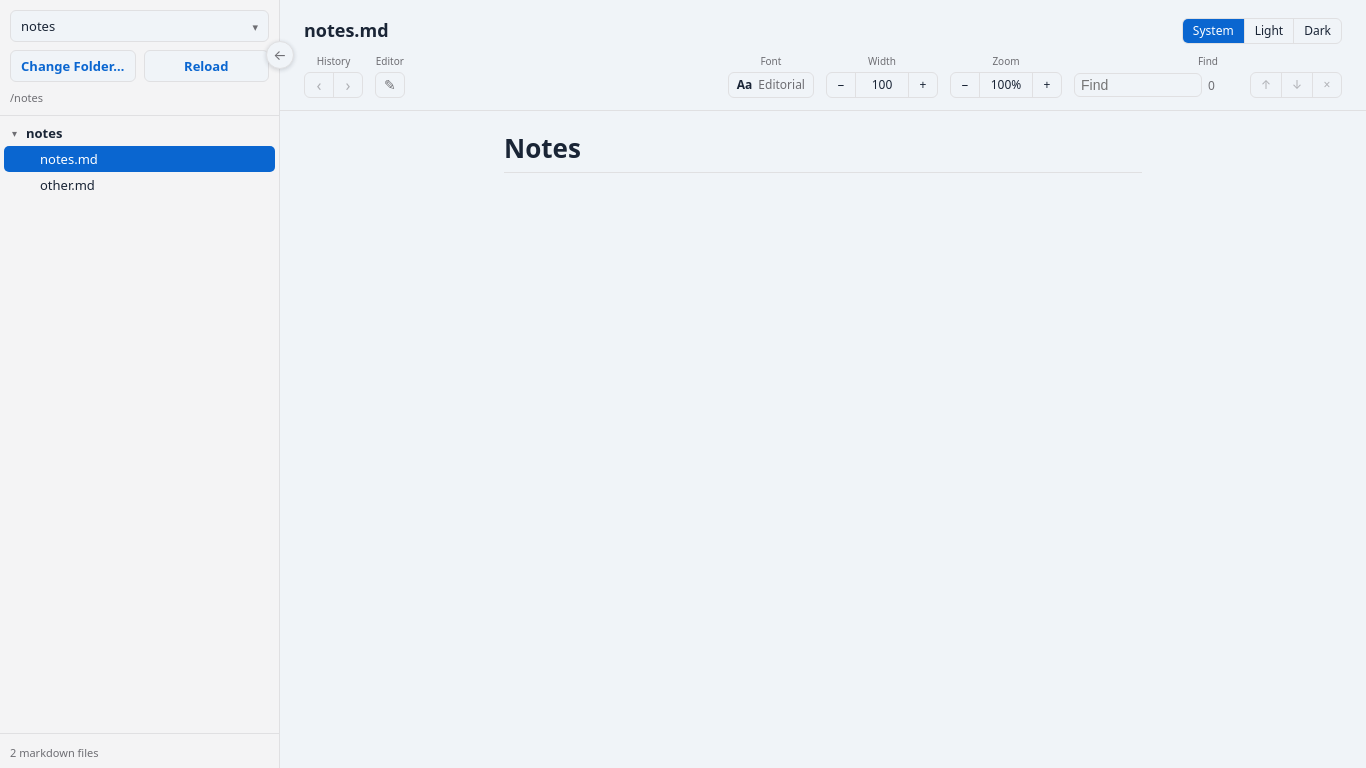
Test: keeps a draft and says so when disk changes under it
Click the button named "Show editor" at (390, 85), box x1=375 y1=72 x2=405 y2=98
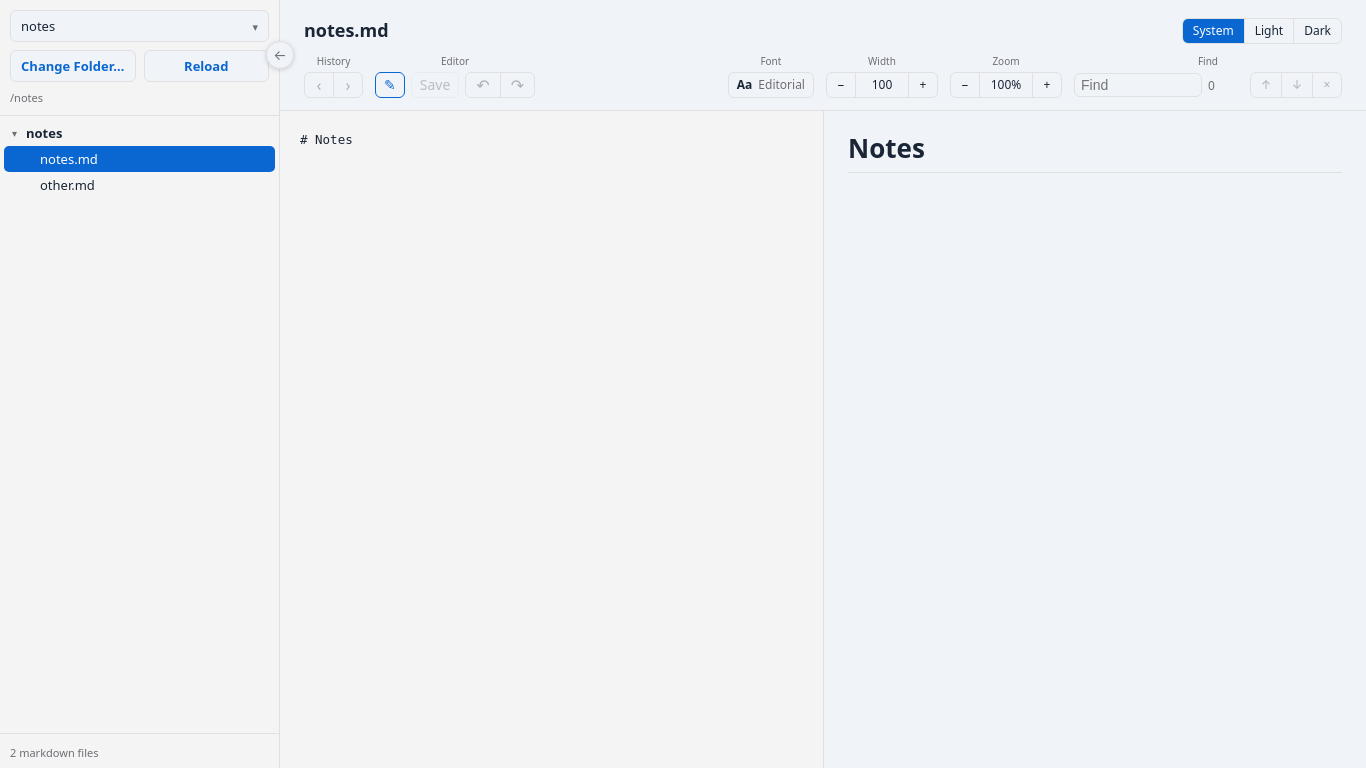
Replace the text in the text box named "Markdown source" with "# Changed" at (552, 440), box x1=280 y1=111 x2=823 y2=767
Wait 400 ms
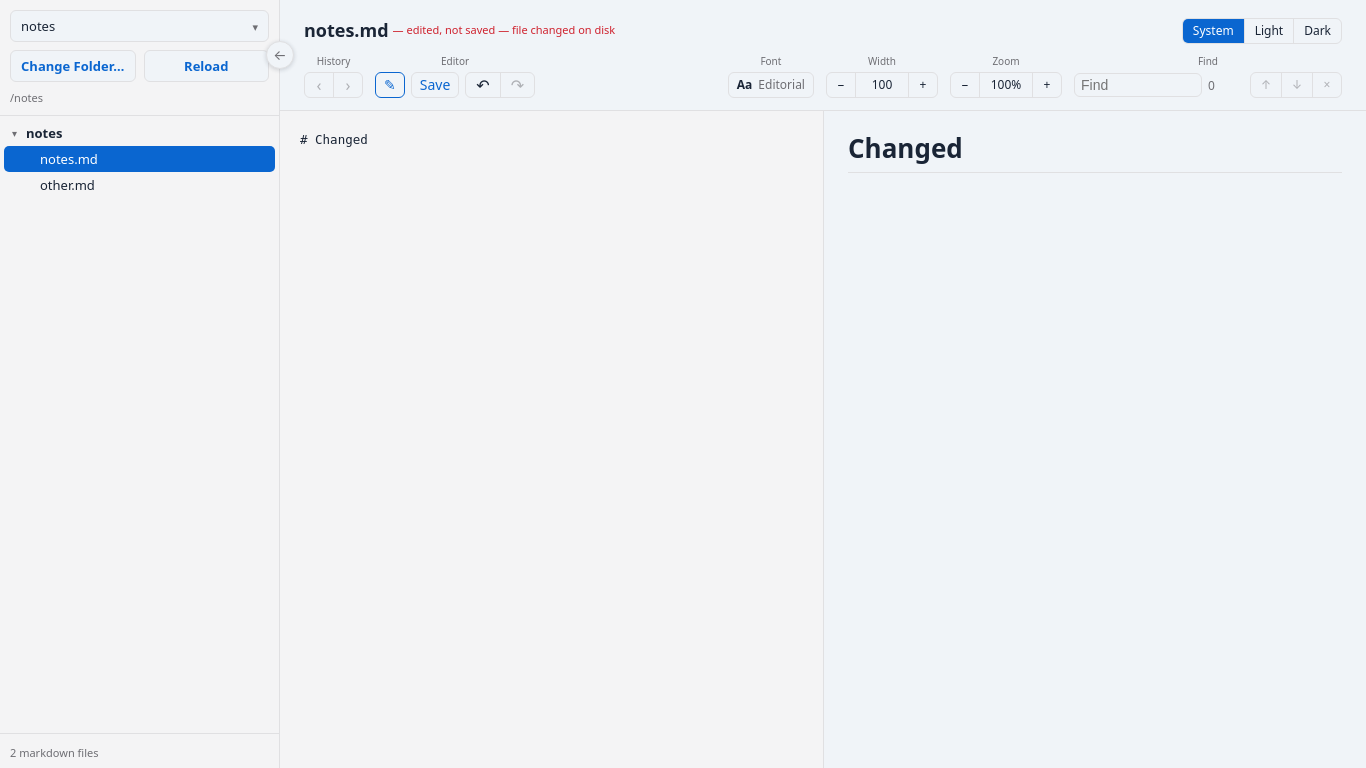
Check: the text "— edited, not saved — file changed on disk" is shown, box x1=393 y1=22 x2=615 y2=42
